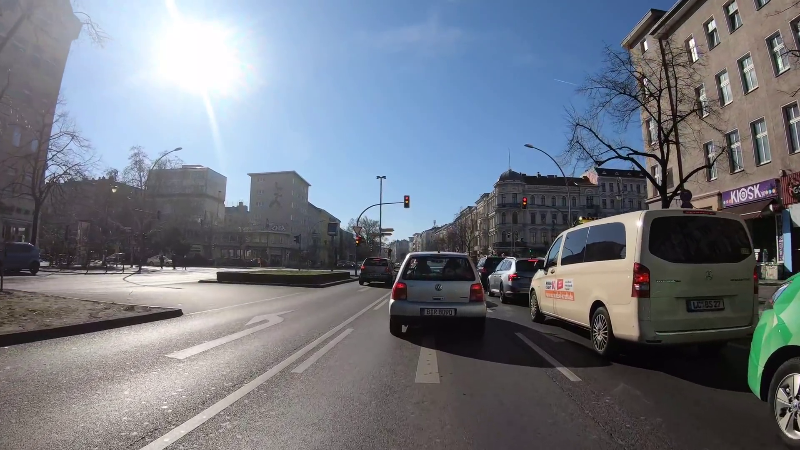Plate: (684, 297, 726, 311), (418, 306, 458, 318)
